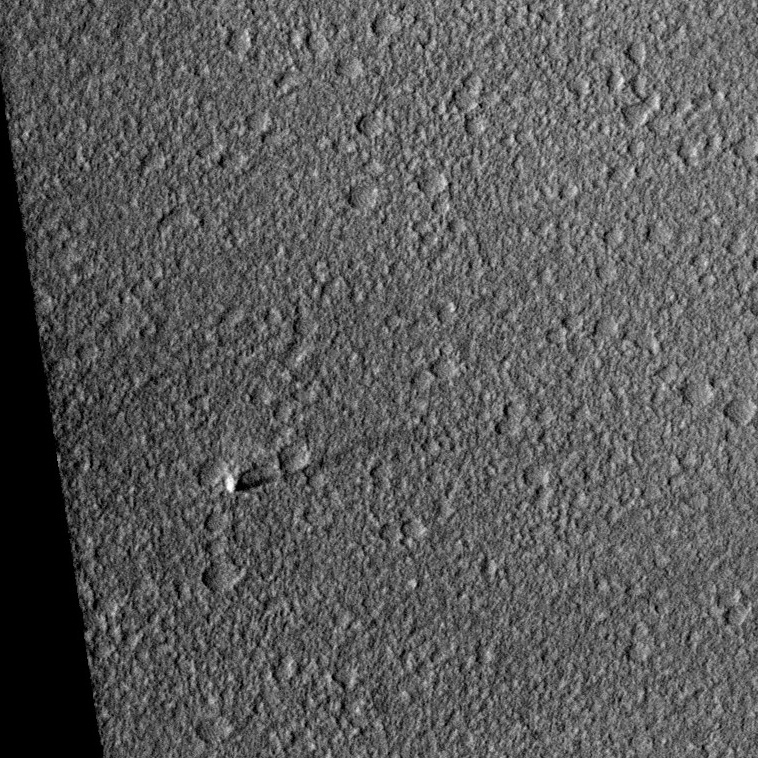dust_devil: (223, 429, 409, 495)
